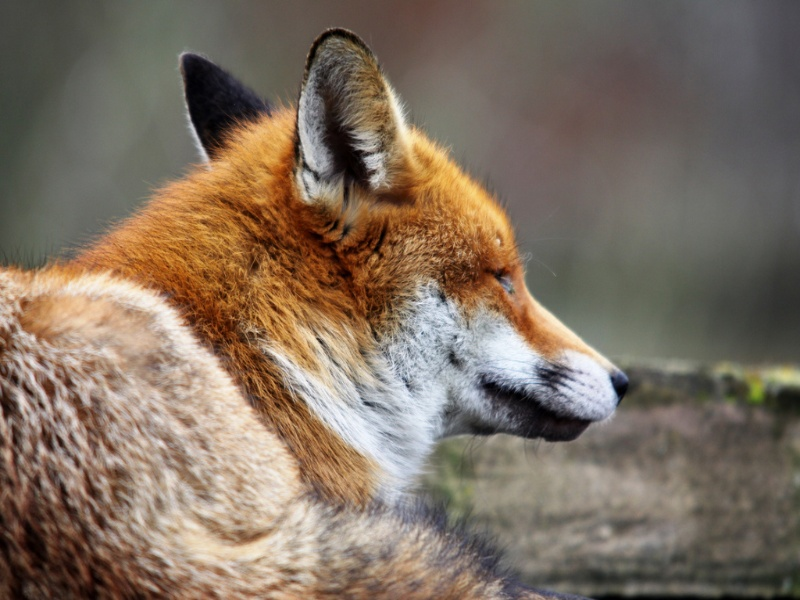fox: (2, 16, 631, 598)
